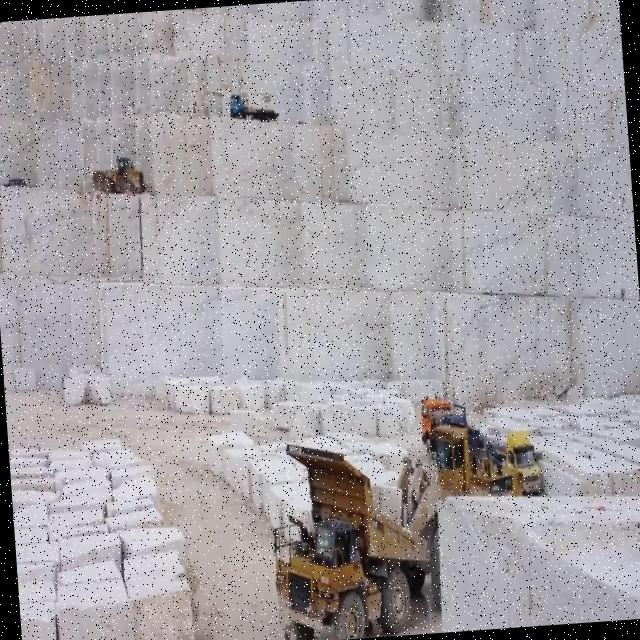Dump Truck: (263, 428, 434, 640), (226, 87, 278, 122)
Loader: (428, 417, 522, 503), (90, 152, 145, 195)
